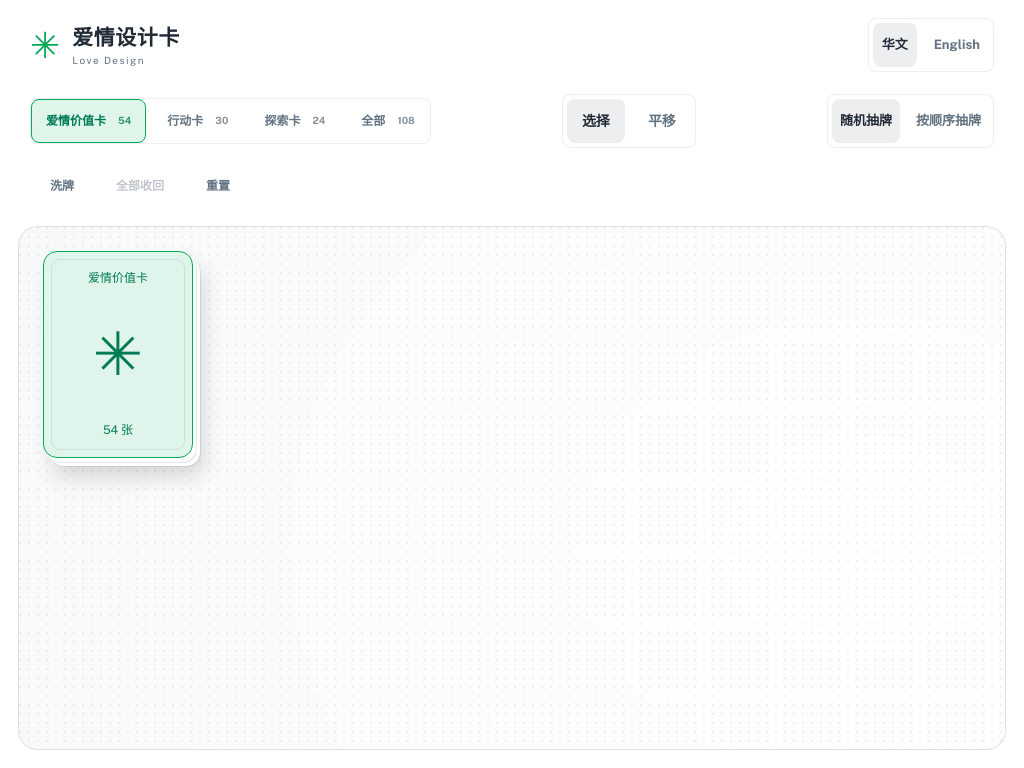
Test: mixes decks without changing existing cards and updates remaining counts
What coordinates should you click on to do the following:
click the button with class "ldt-pile"
I would click on:
 (118, 354)
Its box is [43,251,193,458].
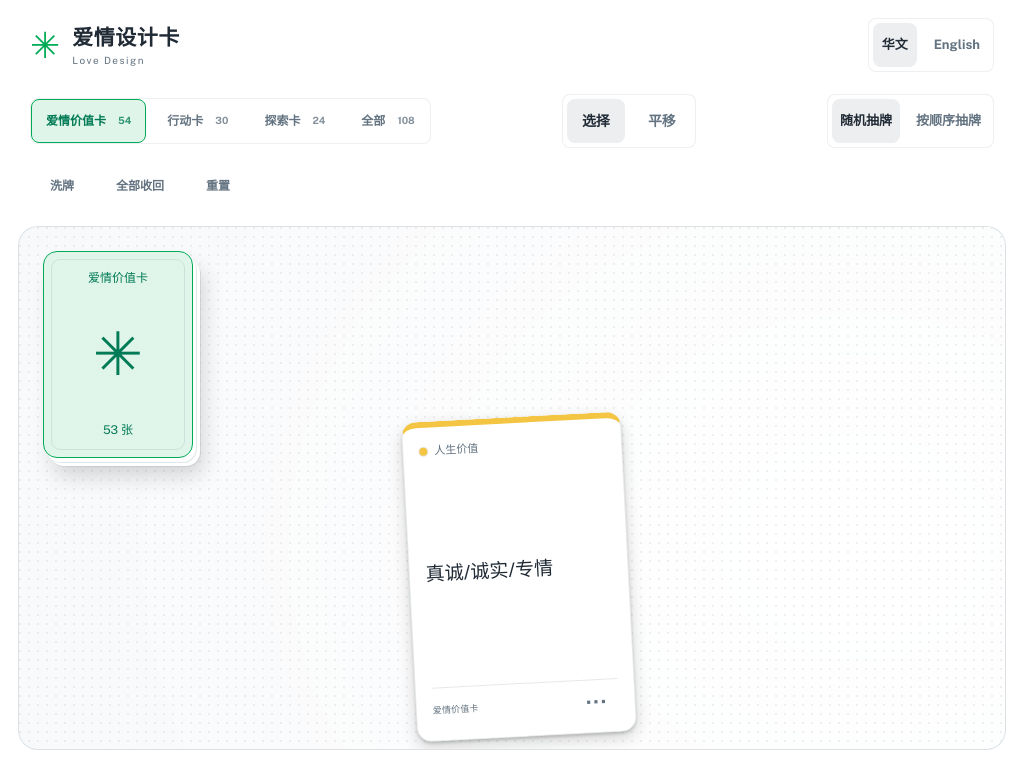
Now the button with class "ldt-pile" shows "53 张", box [43,251,193,458]
What coordinates should you click on to do the following:
click the button "行动卡 30"
I would click on:
 (198, 121)
Its box is [152,99,243,143].
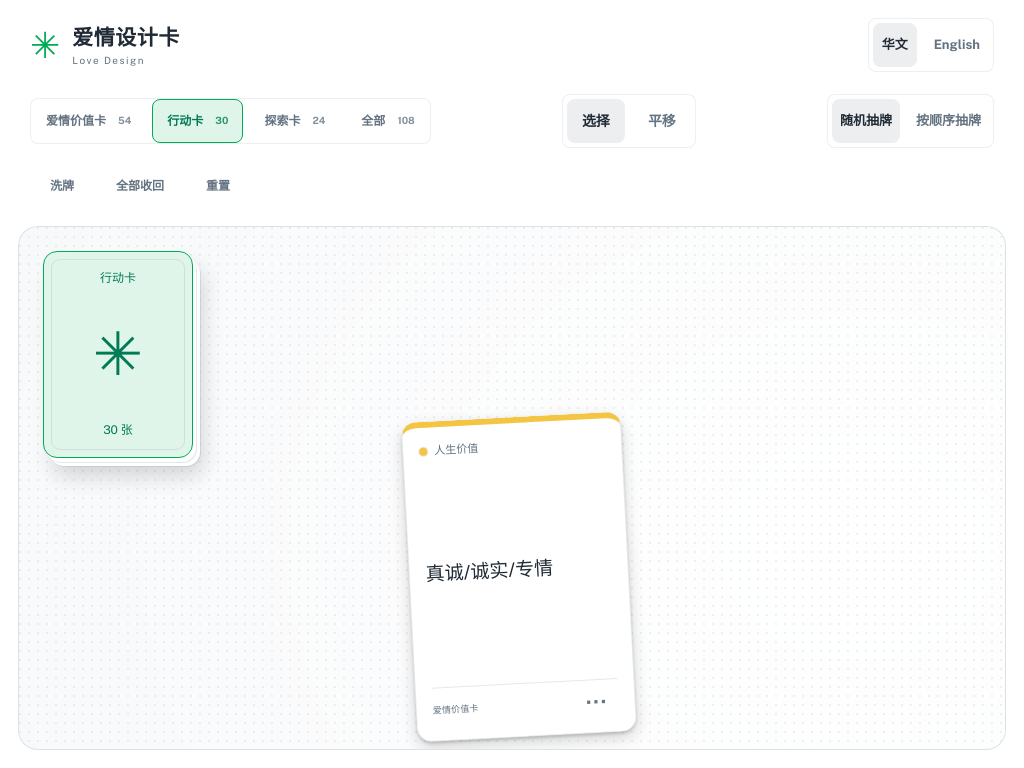
Now the button with class "ldt-pile" shows "30 张"
What coordinates should you click on to do the following:
click the button with class "ldt-pile"
I would click on:
 (118, 354)
Its box is [43,251,193,458].
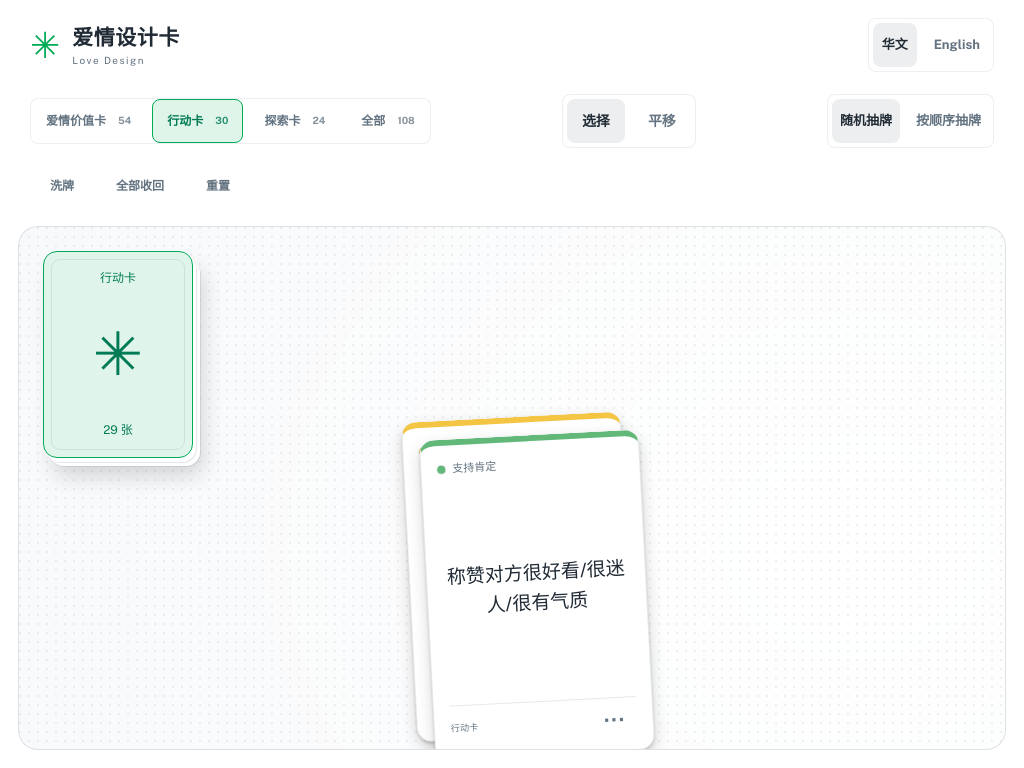
What coordinates should you click on to do the following:
click the button "探索卡 24"
I would click on:
 (295, 121)
Its box is [249,99,340,143].
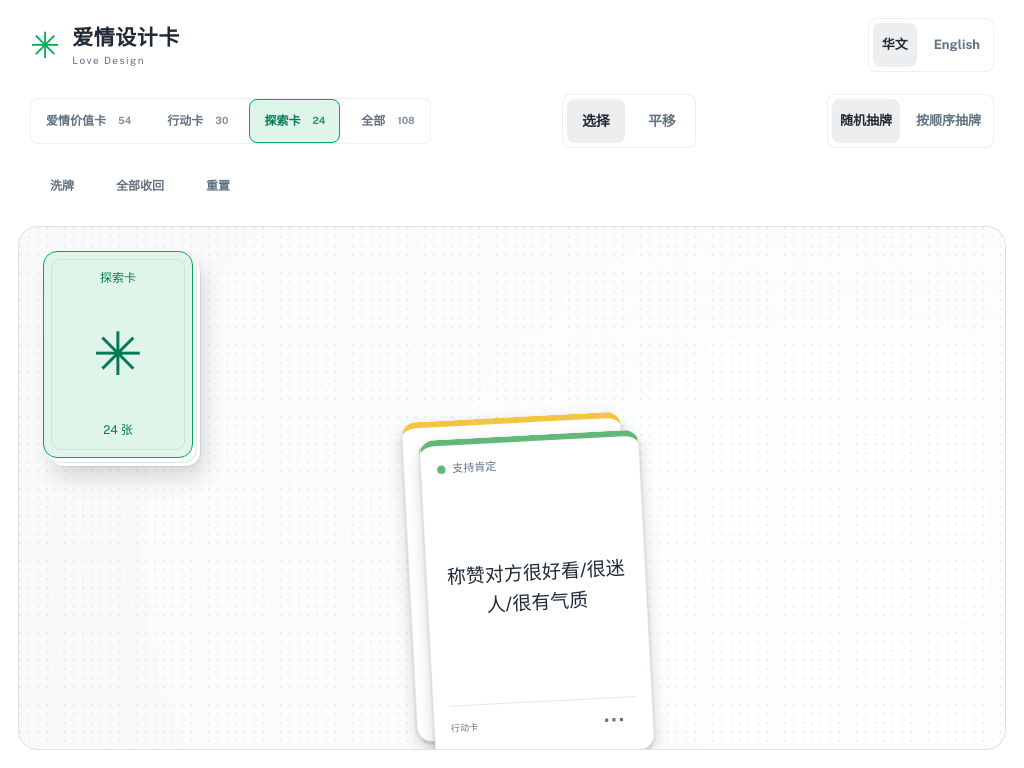
What coordinates should you click on to do the following:
click the button with class "ldt-pile"
I would click on:
 (118, 354)
Its box is [43,251,193,458].
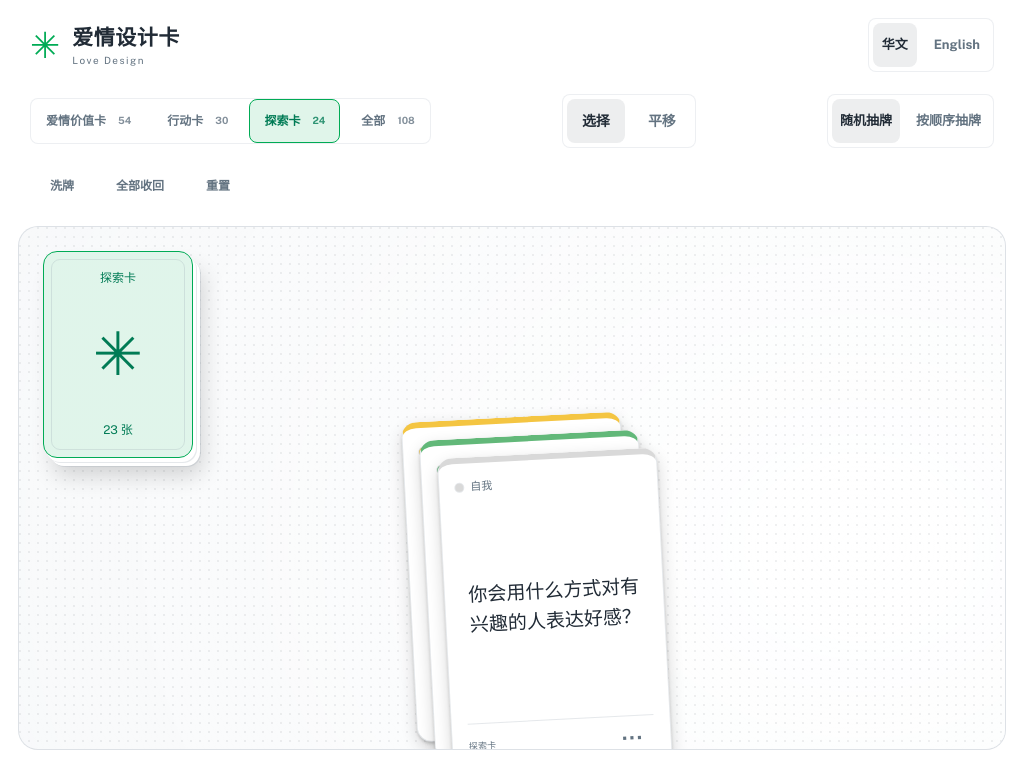
What coordinates should you click on to do the following:
click the button "全部 108"
I would click on:
 (388, 121)
Its box is [346,99,430,143].
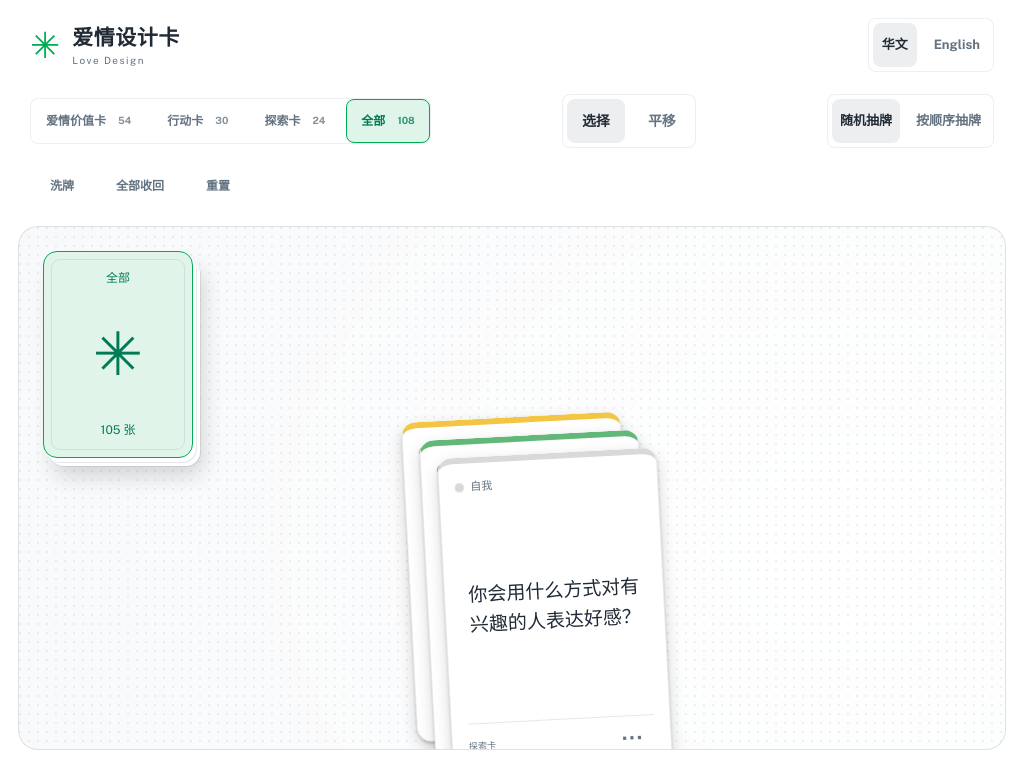
Now the button with class "ldt-pile" shows "105 张", box [43,251,193,458]
